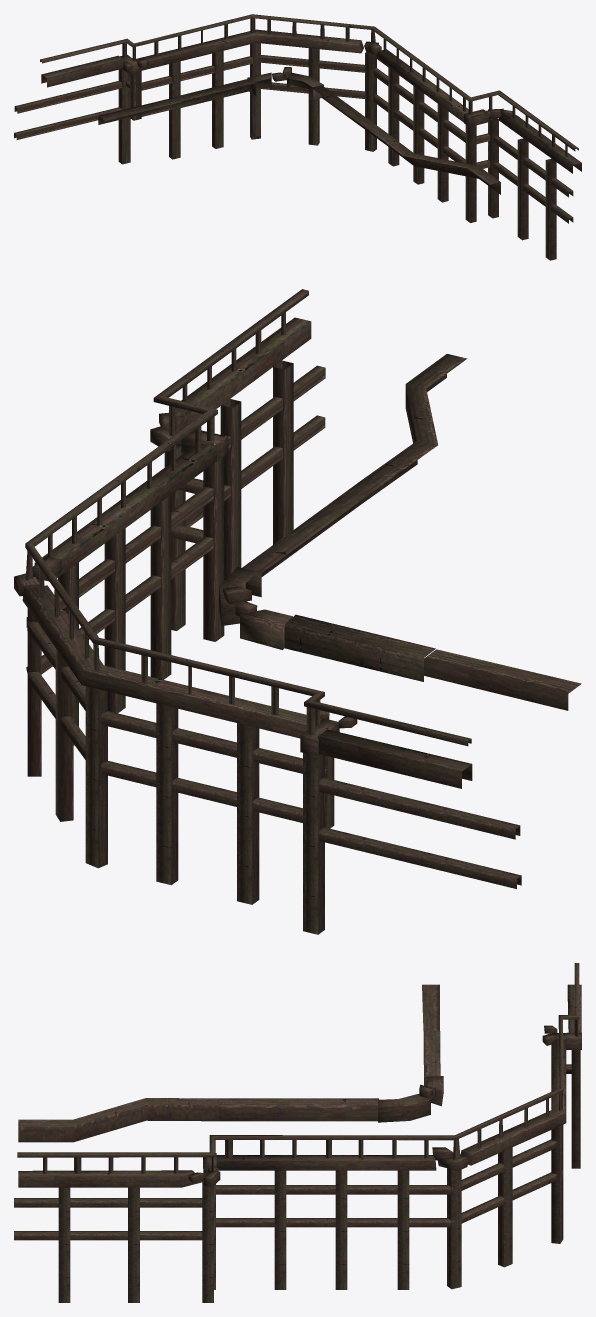
The model's file is qiaoliang.FBX.
3 renders of one model, top to bottom at view 1: azimuth 30°, elevation 25°; view 2: azimuth 150°, elevation 25°; view 3: azimuth 270°, elevation 25°, orthographic. The views are drawn at different scales.
Visible parts, largest first — view 1: qiaoliang; view 2: qiaoliang; view 3: qiaoliang.
Boxes of the visible parts, x1,y1,x2,y2 form: qiaoliang: (14, 14, 581, 260); qiaoliang: (14, 289, 581, 934); qiaoliang: (14, 963, 581, 1302).
Bounding box in the file's own units: 2357 × 796 × 2691.
